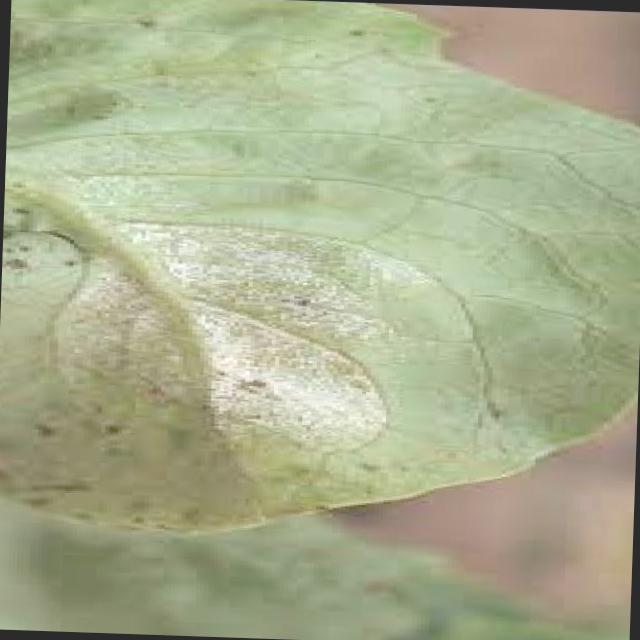Downy_mildew: (17, 84, 482, 474)
